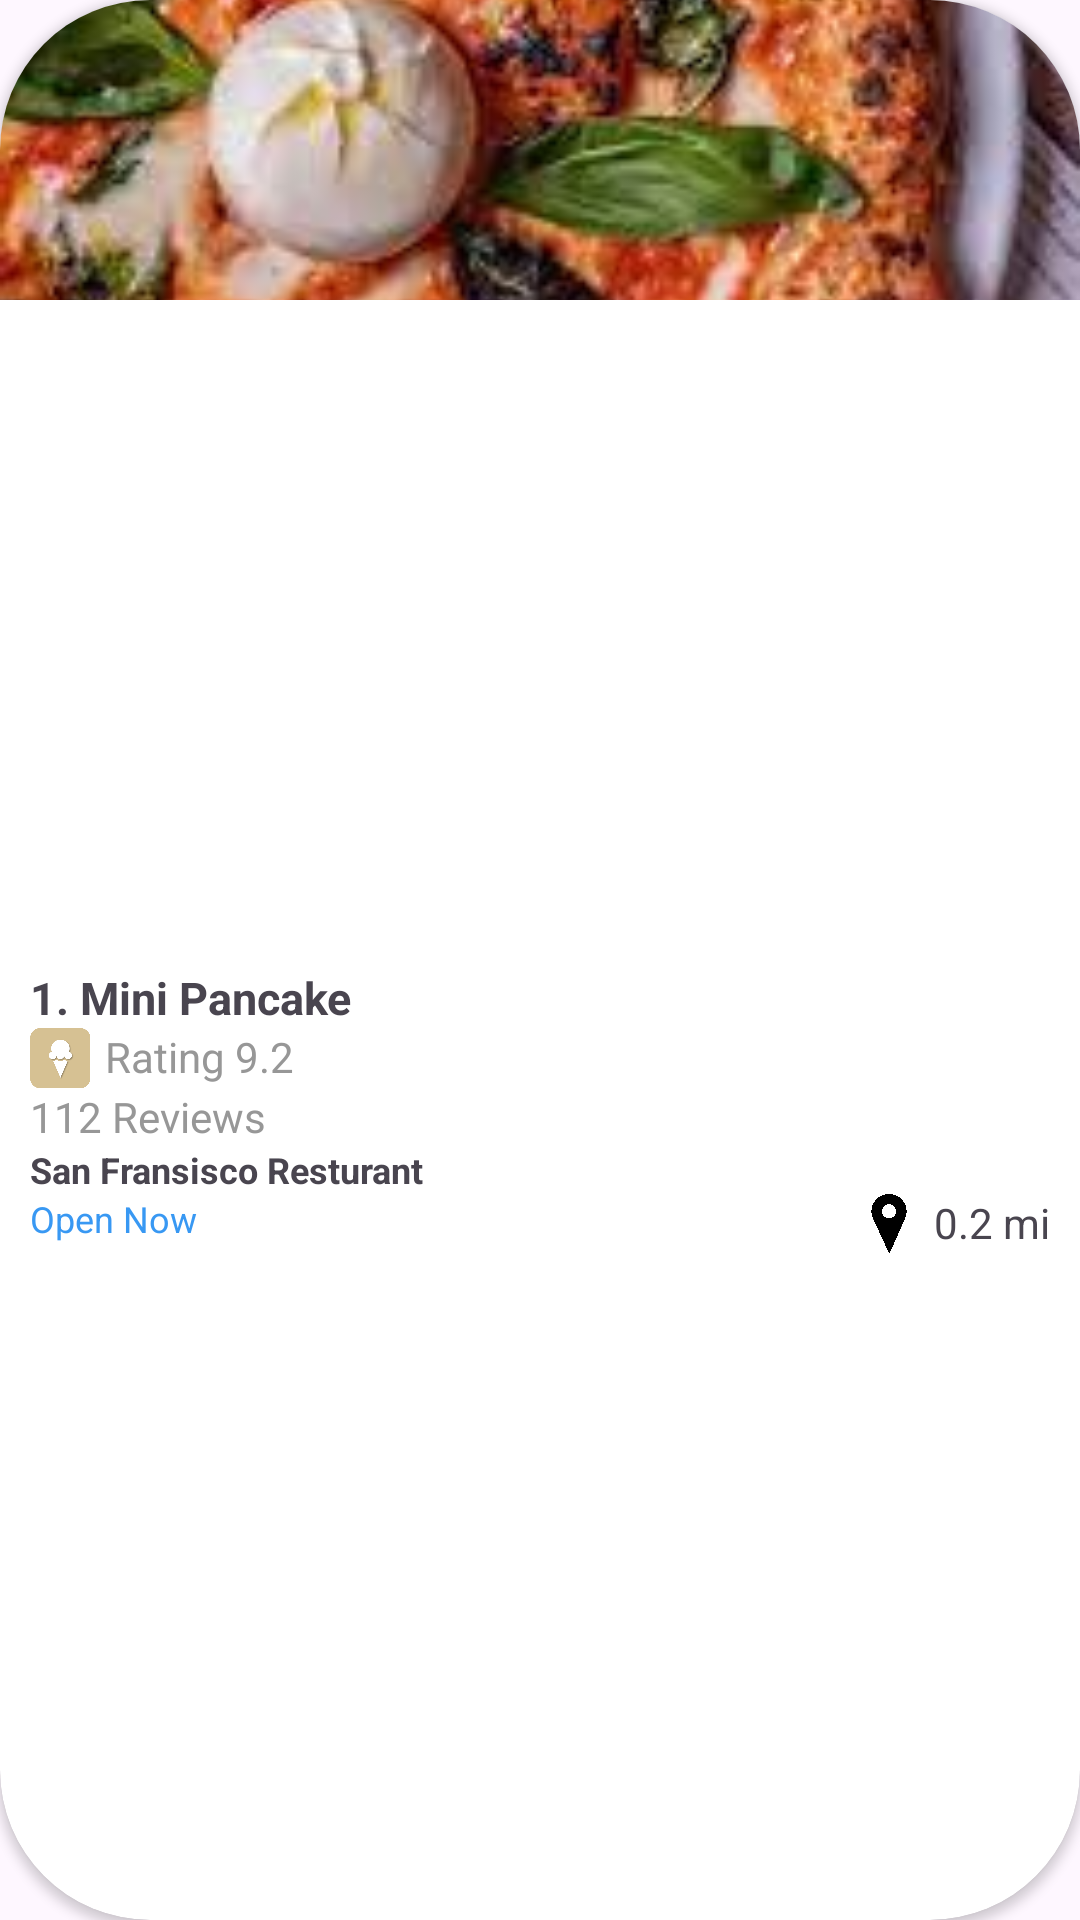

Locate icon controls on the screen. Image size 1080×1920, boxes as (x1, y1, x2, y2).
loc profile: (871, 1194, 907, 1253)
